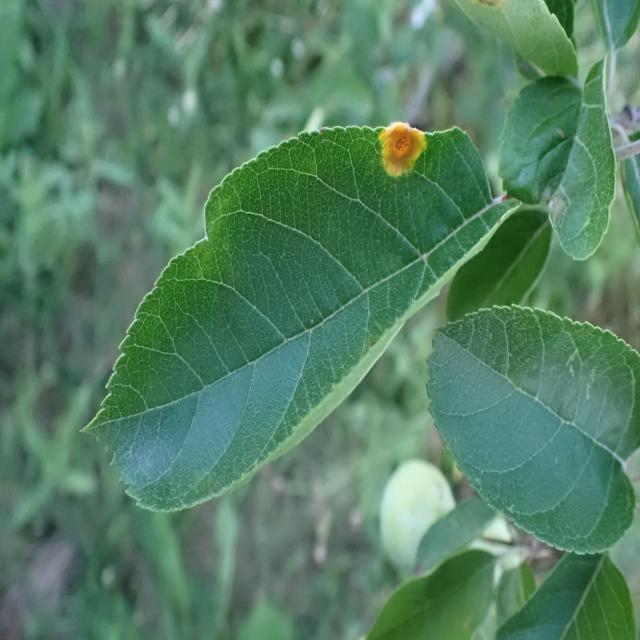Rust: (362, 108, 437, 193)
